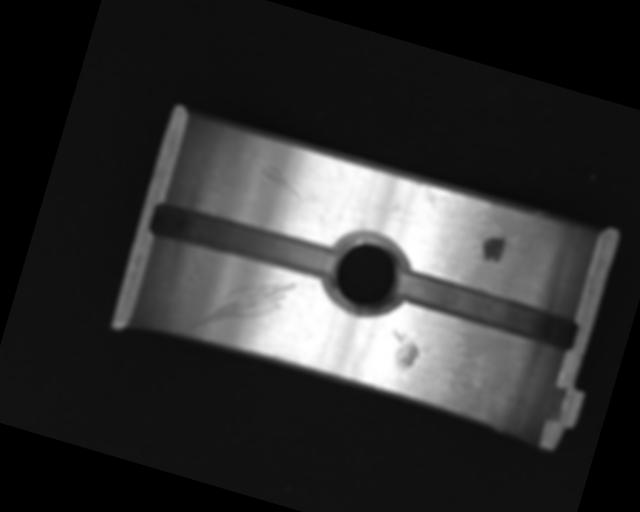blot: (478, 231, 508, 265)
bruise: (384, 328, 424, 371)
gap: (145, 195, 341, 288), (393, 267, 579, 351)
hole: (317, 224, 419, 327)
nick: (192, 258, 298, 353), (255, 162, 321, 207)
